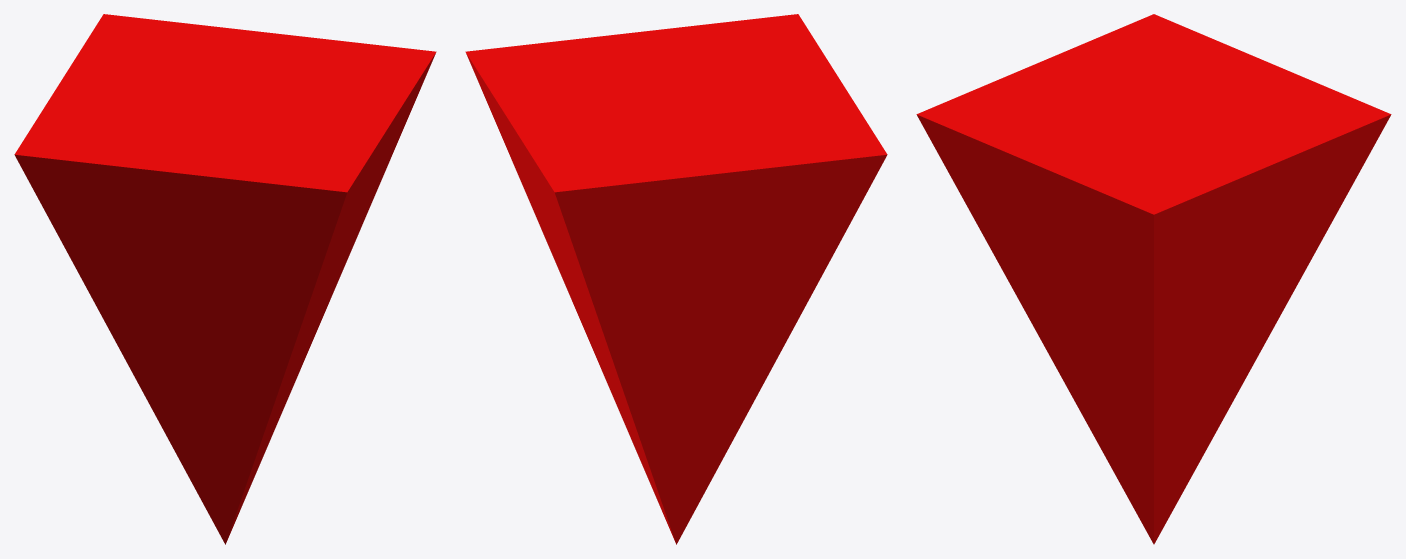
The model's file is pointer.fbx.
The picture shows the model from 3 angles, left to right: view 1: azimuth 30°, elevation 25°; view 2: azimuth 150°, elevation 25°; view 3: azimuth 270°, elevation 25°; orthographic projection. The views are drawn at different scales.
Parts seen in each view (by area): view 1: 円錐; view 2: 円錐; view 3: 円錐.
Boxes of the visible parts, x1,y1,x2,y2 form: 円錐: [14, 14, 436, 544]; 円錐: [465, 14, 887, 544]; 円錐: [916, 14, 1391, 544].
Bounding box in the file's own units: 200 × 200 × 200.
